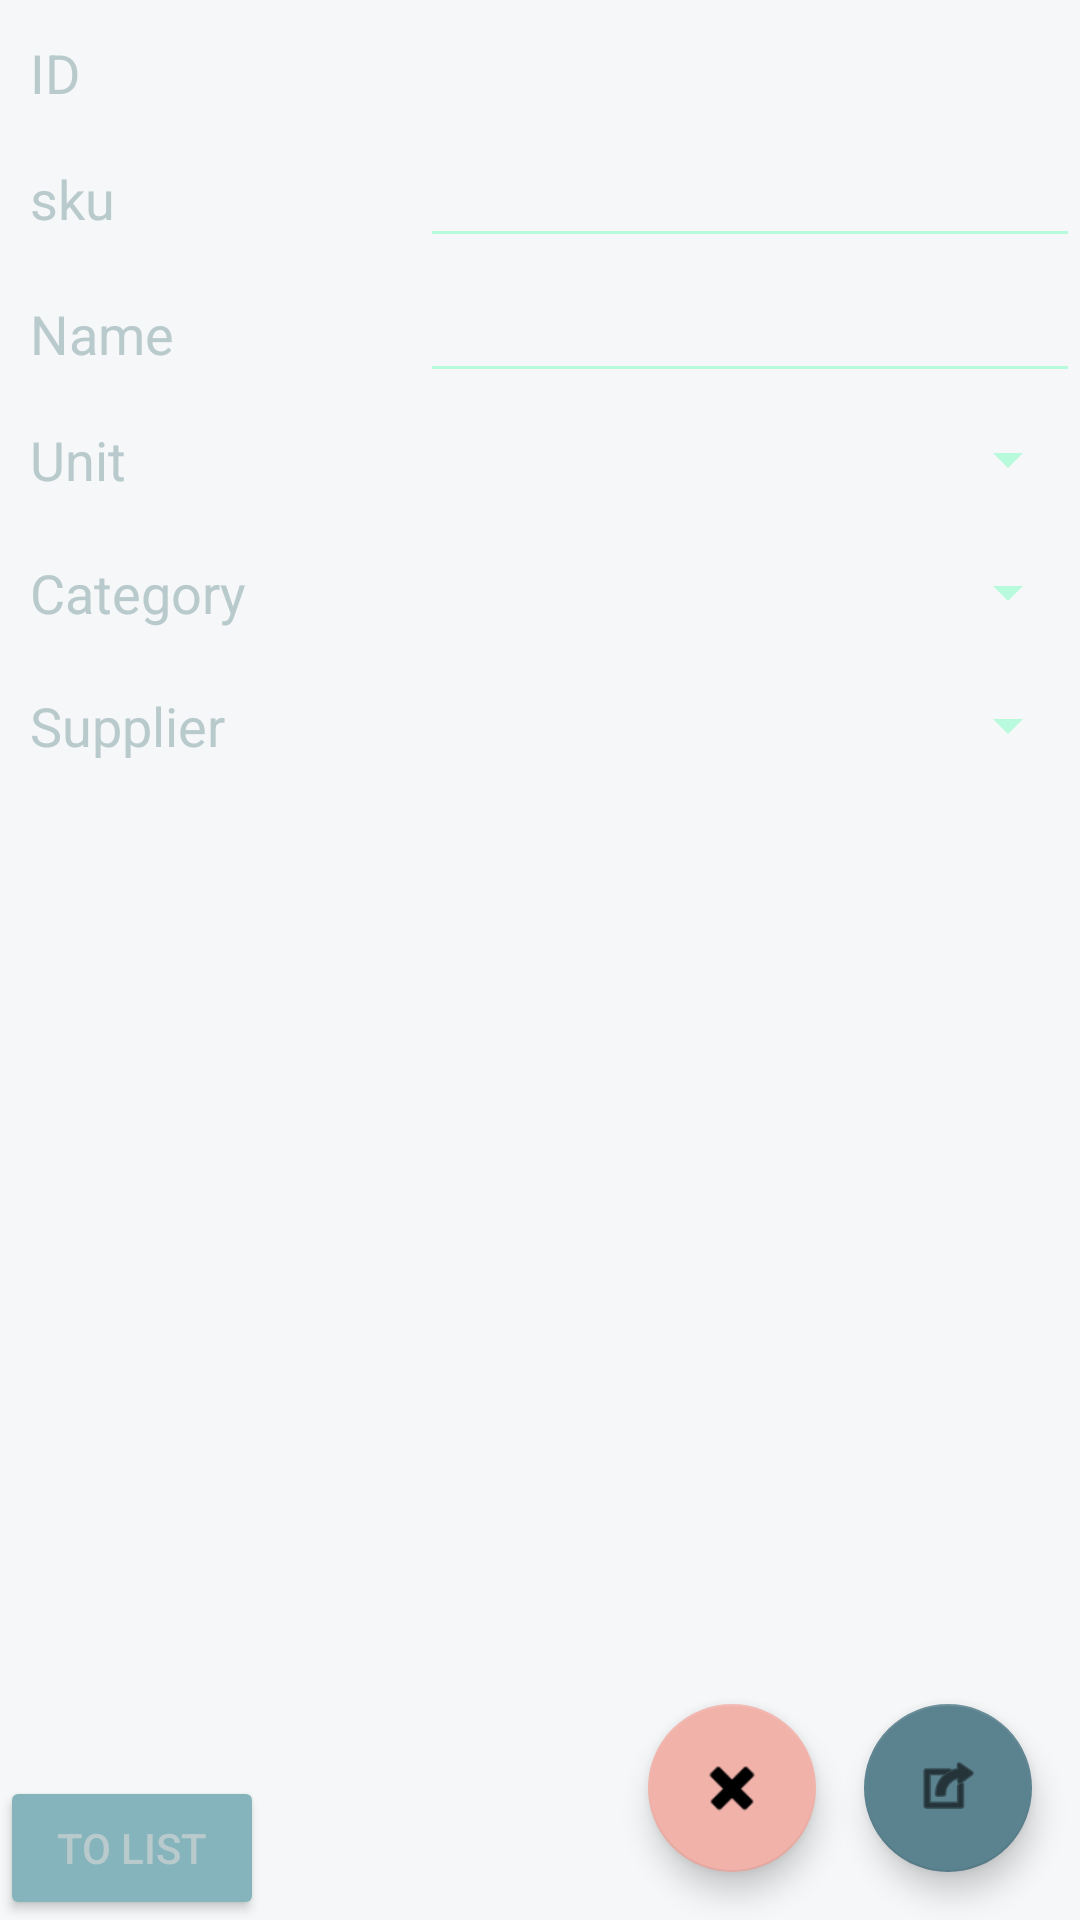

Point at icon controls on the screen. Image size 1080 x 1920, points as point (x, y).
delete: point (732, 1788)
set as: point (948, 1788)
